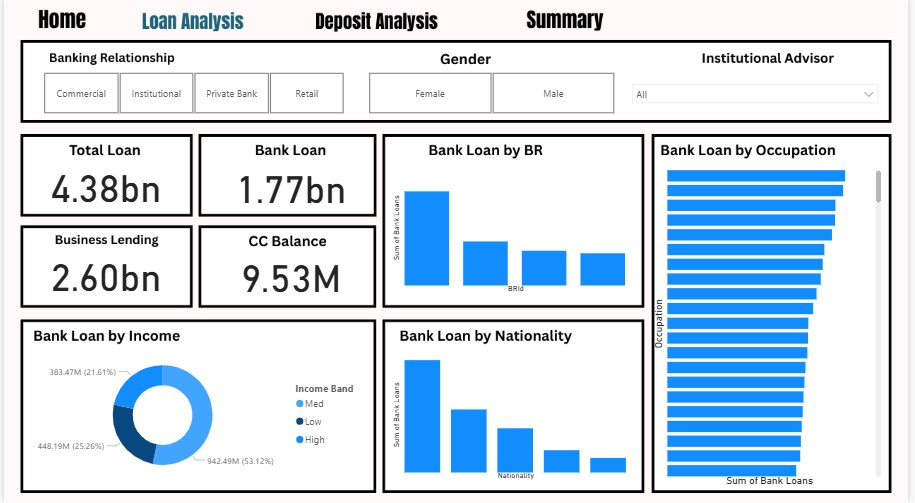

The dashboard page shown, as its layout file describes it:
{"tool":"powerbi","page":{"name":"Loan Analysis","canvas":[1280,720],"ordinal":1},"visuals":[{"type":"actionButton","box":[31.6,9.6,113.9,48],"z":0},{"type":"actionButton","box":[422.6,9.6,216.8,48],"z":1000},{"type":"actionButton","box":[697.1,9.6,216.8,48],"z":2000},{"type":"card","fields":{"Values":["Banking.Total Loan"]},"box":[44.3,234.3,201.4,67.1],"z":3000},{"type":"card","fields":{"Values":["Sum(Banking.Bank Loans)"]},"box":[305.7,235.7,201.4,67.1],"z":4000},{"type":"card","fields":{"Values":["Sum(Banking.Business Lending)"]},"box":[44.3,360,201.4,67.1],"z":5000},{"type":"card","fields":{"Values":["Sum(Banking.Credit Card Balance)"]},"box":[305.7,361.4,201.4,67.1],"z":6000},{"type":"donutChart","fields":{"Category":["Banking.Income Band"],"Y":["Sum(Banking.Bank Loans)"]},"box":[31.4,498.6,487.1,192.9],"z":7000},{"type":"clusteredColumnChart","fields":{"Category":["Banking.BRId"],"Y":["Sum(Banking.Bank Loans)"]},"box":[545.7,234.3,342.9,192.9],"z":8000},{"type":"clusteredColumnChart","fields":{"Category":["Banking.Nationality"],"Y":["Sum(Banking.Bank Loans)"]},"box":[545.7,498.6,342.9,192.9],"z":9000},{"type":"barChart","fields":{"Category":["Banking.Occupation"],"Y":["Sum(Banking.Bank Loans)"]},"box":[914.3,235.7,334.3,465.7],"z":10000},{"type":"slicer","fields":{"Values":["Banking.BRId"]},"box":[31.4,102.9,474.3,71.4],"z":11000},{"type":"slicer","fields":{"Values":["Banking.GenderId"]},"box":[491.4,102.9,397.1,71.4],"z":12000},{"type":"slicer","fields":{"Values":["Banking.IAId"]},"box":[880,115.7,368.6,58.6],"z":13000}]}

Visuals, with their boxes in screenshot pixels (x1, y1, x2, y2), scaled from the page's 1280x720 canvas onto the 915x503 screenshot:
actionButton: Rect(23, 7, 104, 40)
actionButton: Rect(302, 7, 457, 40)
actionButton: Rect(498, 7, 653, 40)
card - Banking.Total Loan: Rect(32, 164, 176, 211)
card - Sum(Banking.Bank Loans): Rect(219, 165, 362, 212)
card - Sum(Banking.Business Lending): Rect(32, 252, 176, 298)
card - Sum(Banking.Credit Card Balance): Rect(219, 252, 362, 299)
donutChart - Banking.Income Band x Sum(Banking.Bank Loans): Rect(22, 348, 371, 483)
clusteredColumnChart - Banking.BRId x Sum(Banking.Bank Loans): Rect(390, 164, 635, 298)
clusteredColumnChart - Banking.Nationality x Sum(Banking.Bank Loans): Rect(390, 348, 635, 483)
barChart - Banking.Occupation x Sum(Banking.Bank Loans): Rect(654, 165, 893, 490)
slicer - Banking.BRId: Rect(22, 72, 361, 122)
slicer - Banking.GenderId: Rect(351, 72, 635, 122)
slicer - Banking.IAId: Rect(629, 81, 893, 122)
